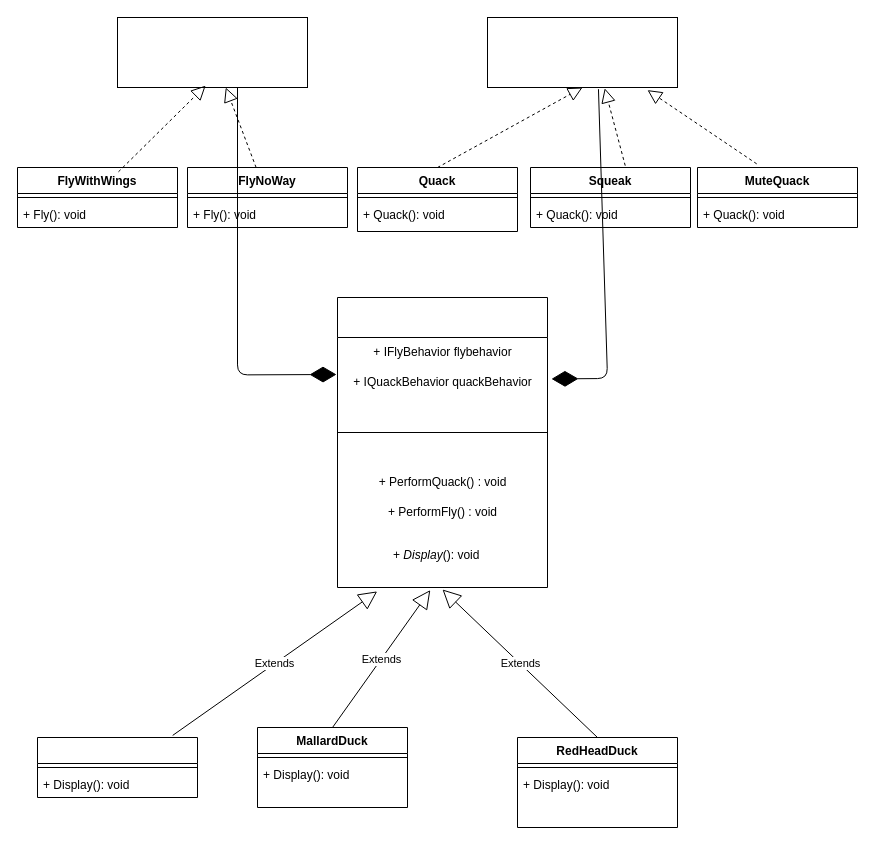
Some shapes in this 875 by 848 pixel diagram are drawn without their labels. The box of each missing label's shape, as (x1, y1, x2, y2) in pixels:
<<abstract>> Duck: (336, 296, 548, 588)
<<Interface>> IFlyBehavior + Fly(): Void: (116, 16, 308, 88)
<<Interface>> IQuackBehavior + Quack(): Void: (486, 16, 678, 88)
RubberDuck: (36, 736, 198, 798)
